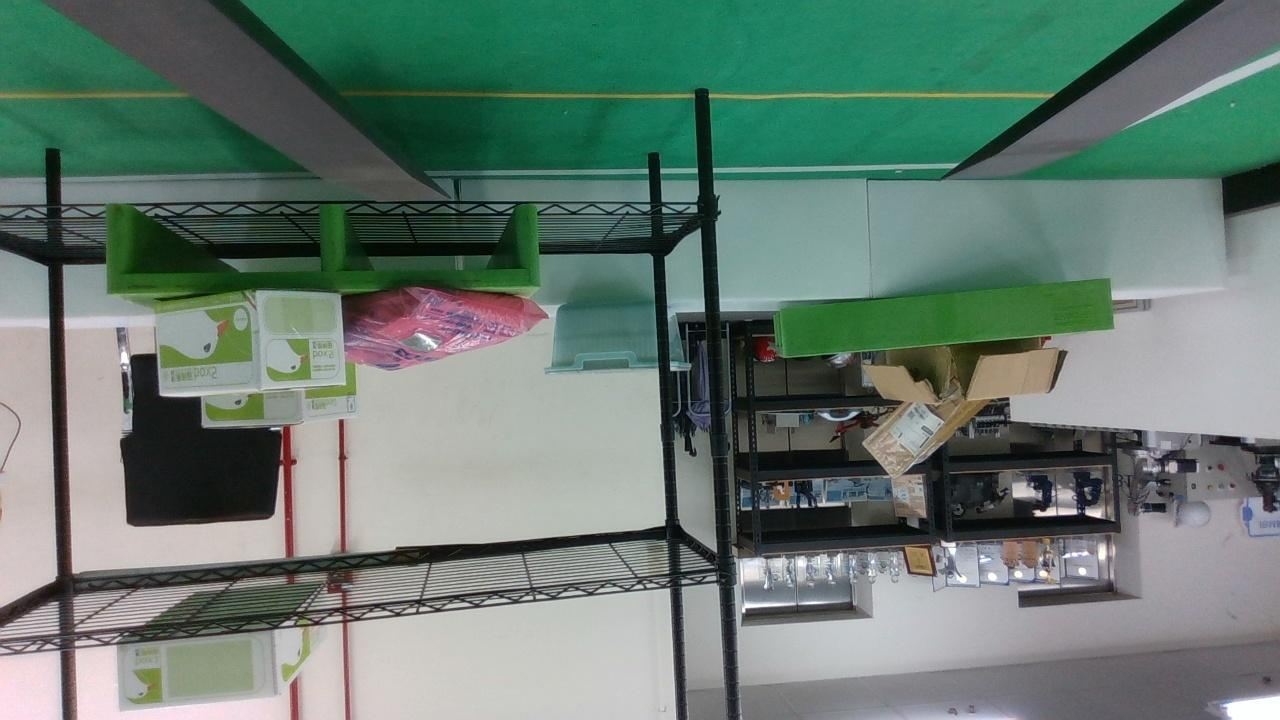Pallet: (106, 204, 542, 298)
